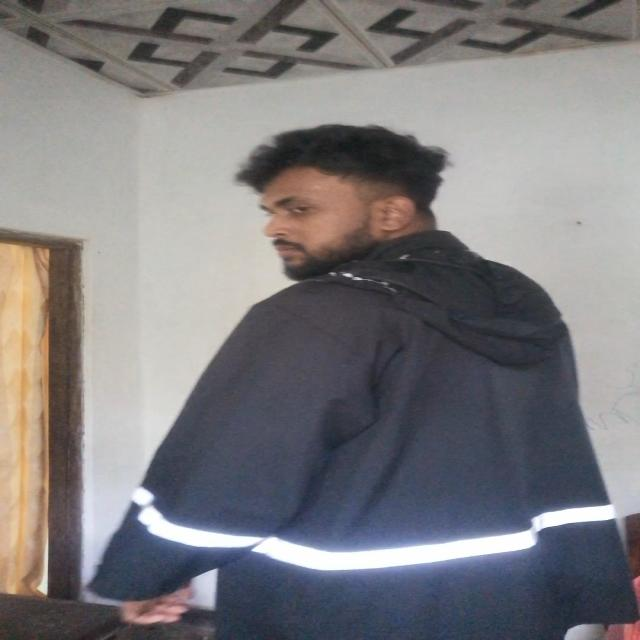Jacket_Wearer: (128, 245, 624, 640)
